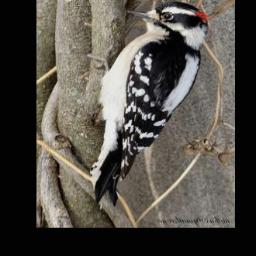Woodpecker: (88, 0, 209, 207)
